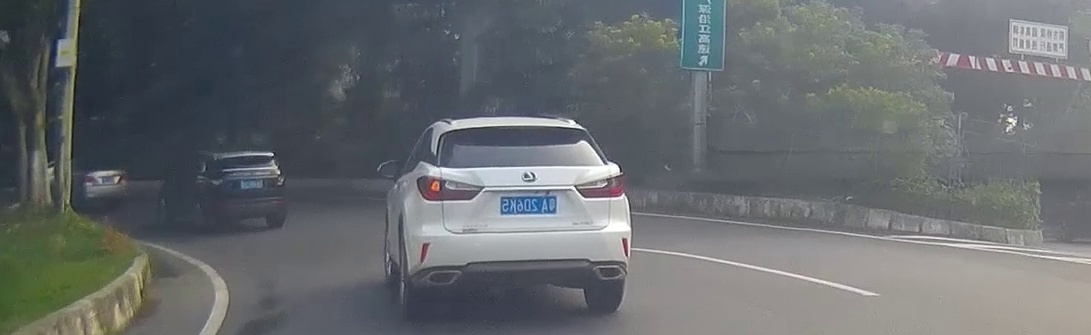L_light: (415, 175, 485, 201), (210, 177, 224, 189)
R_light: (573, 172, 626, 198), (276, 175, 286, 187)
T_light: (500, 195, 558, 215), (499, 124, 542, 131), (240, 154, 256, 161)
day-left: (406, 118, 631, 315)
day-no: (206, 150, 286, 229)
